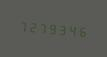four: (67, 21, 76, 38)
nine: (47, 19, 56, 37)
seven: (17, 16, 26, 34), (37, 18, 46, 36)
six: (77, 22, 86, 39)
three: (57, 20, 66, 38)
two: (27, 17, 36, 35)
